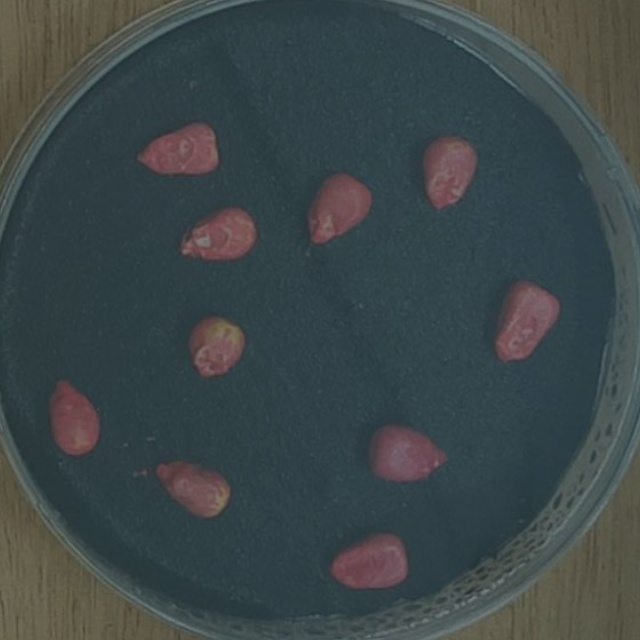Zea mays: (484, 270, 567, 369), (144, 448, 237, 525), (299, 163, 378, 253), (320, 522, 414, 596), (170, 196, 265, 267), (361, 416, 453, 489), (128, 114, 226, 182), (413, 124, 484, 215), (39, 368, 107, 463), (179, 307, 252, 385)
